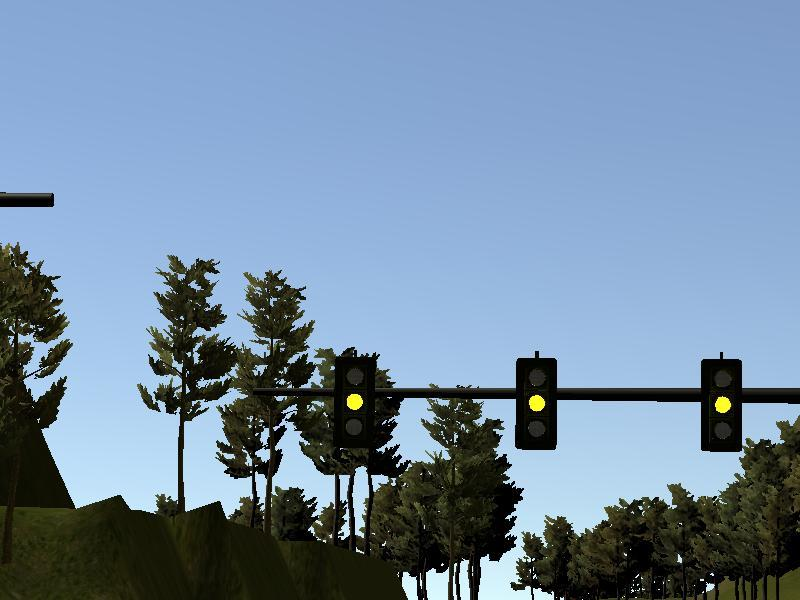Yellow: (700, 359, 742, 451), (516, 358, 556, 450), (335, 357, 374, 448)
